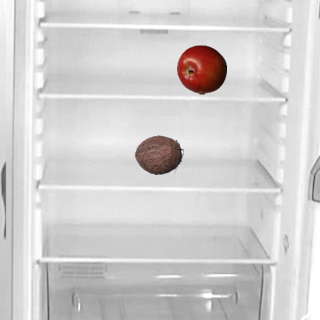Apple Braeburn: (176, 44, 226, 94)
Cocos: (133, 129, 183, 179)
